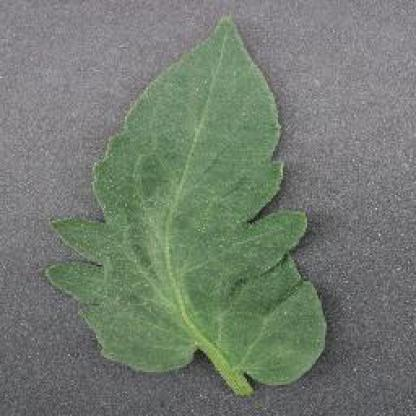good leaf: (58, 35, 331, 402)
